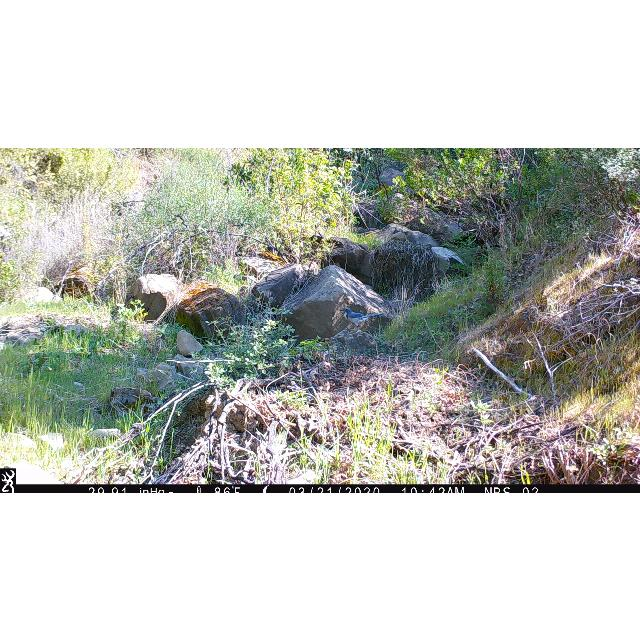animals: (338, 306, 382, 326)
